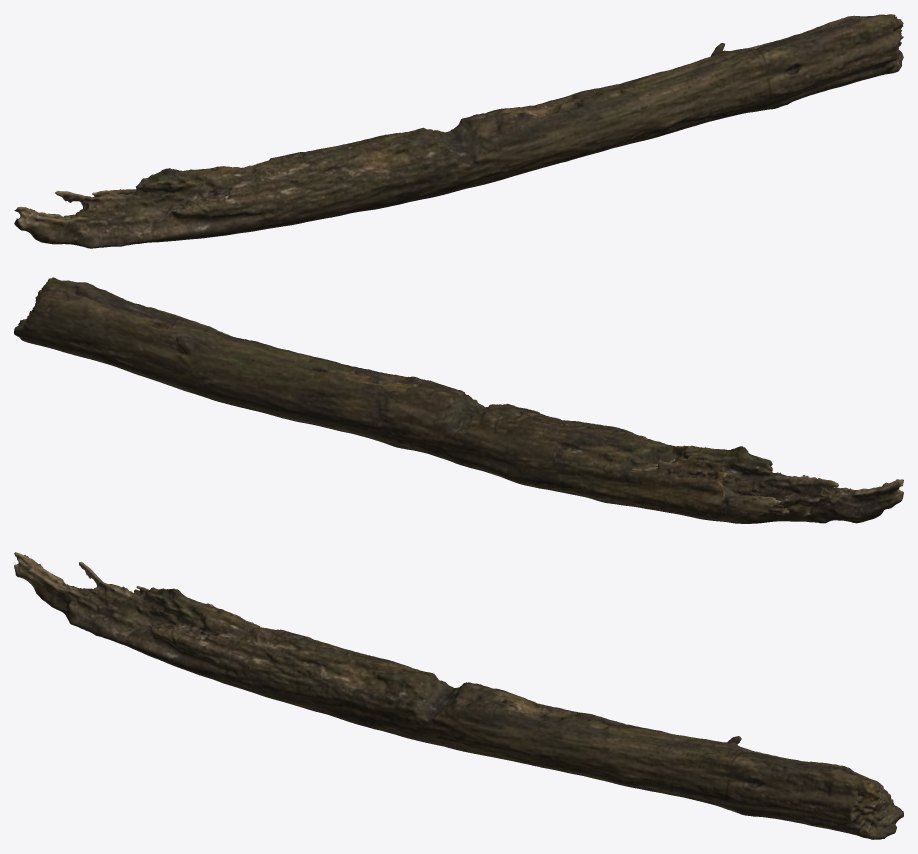
The model's file is p_dead_tree_trunk.glb.
The picture shows the model from 3 angles, top to bottom: view 1: azimuth 30°, elevation 25°; view 2: azimuth 150°, elevation 25°; view 3: azimuth 330°, elevation 25°; orthographic projection.
Visible parts, largest first — view 1: dead_tree_trunk; view 2: dead_tree_trunk; view 3: dead_tree_trunk.
Part boxes in pixels (x1,y1,x2,y2): dead_tree_trunk: (14, 14, 903, 248); dead_tree_trunk: (14, 277, 903, 523); dead_tree_trunk: (14, 552, 903, 839).
Size of the model in its own units: 3.05 by 0.2904 by 0.2775.
1 material, 1 textured.
